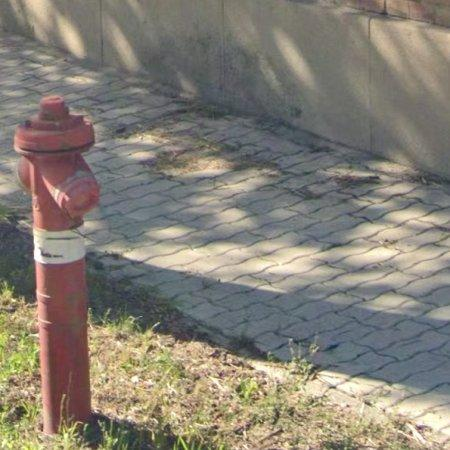a fire hydrant: (14, 96, 100, 435)
